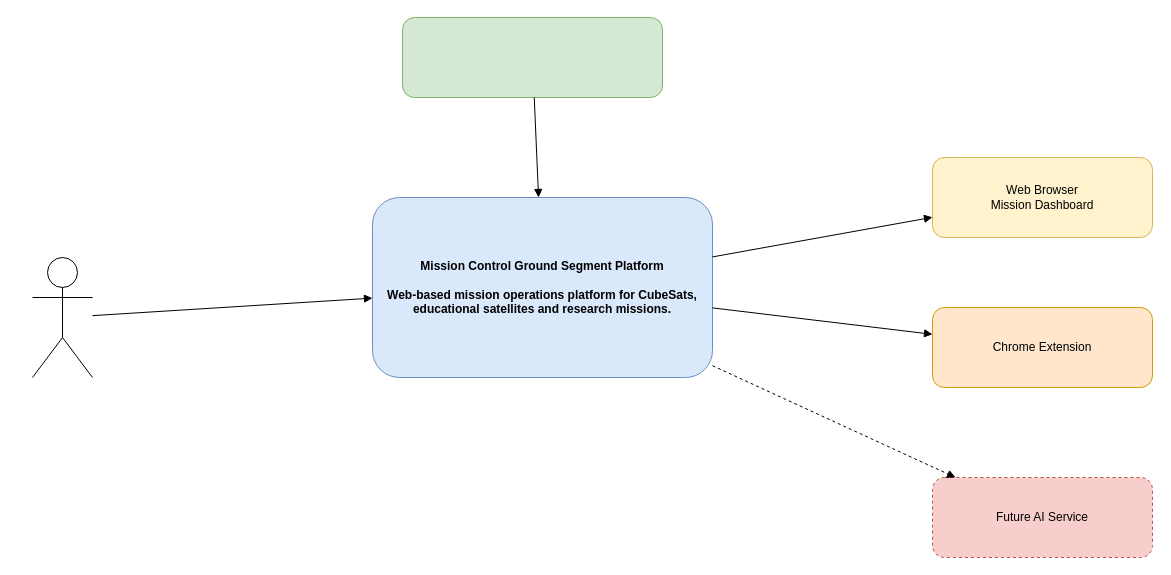
This 1171x575 diagram has some shape labels left out. The shapes that lost their labels are listed below. From the top down, each one's centre as x and y in pixels, then its label:
At point (532, 57): "Telemetry Source (Simulator / Future CubeSat)".
At point (62, 317): "Mission Operator".
